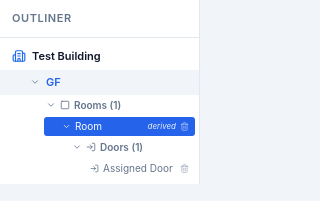
Test: route graph projected properties › collapses and expands a Room child subfolder without losing selection
Expected: the text "Assigned Door" is shown, [103,160,176,176]
Click the button with aria-label "Collapse Doors".
click(120, 147)  # box [40,136,199,158]
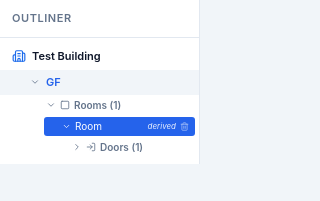
Expected: the text "Assigned Door" is gone
Click the button with aria-label "Expand Doors".
click(120, 147)  # box [40,136,199,158]
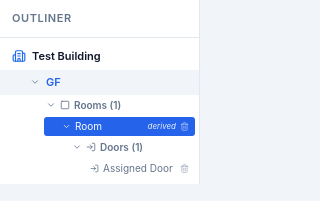
Expected: the text "Assigned Door" is shown, [103,160,176,176]
